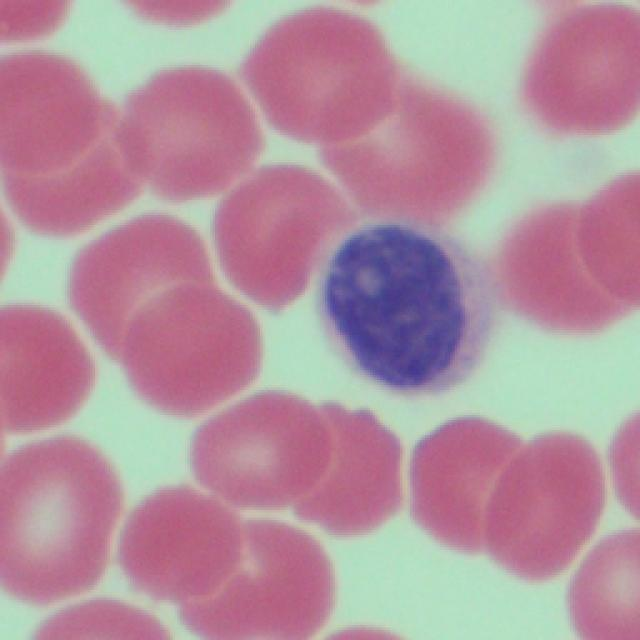RBC: (193, 382, 406, 549), (486, 160, 640, 340), (88, 253, 248, 423), (331, 73, 487, 238), (0, 38, 120, 250), (111, 46, 250, 208), (0, 420, 118, 609), (238, 0, 390, 145), (491, 436, 609, 599), (180, 514, 332, 639), (510, 1, 638, 148), (402, 414, 518, 572), (210, 164, 329, 312), (563, 531, 640, 638), (607, 393, 640, 526)
WBC: (319, 209, 486, 409)
